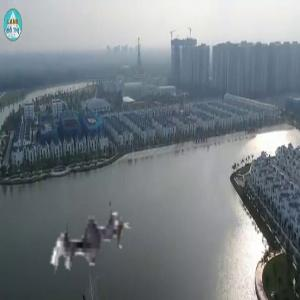drone: (42, 196, 144, 298)
